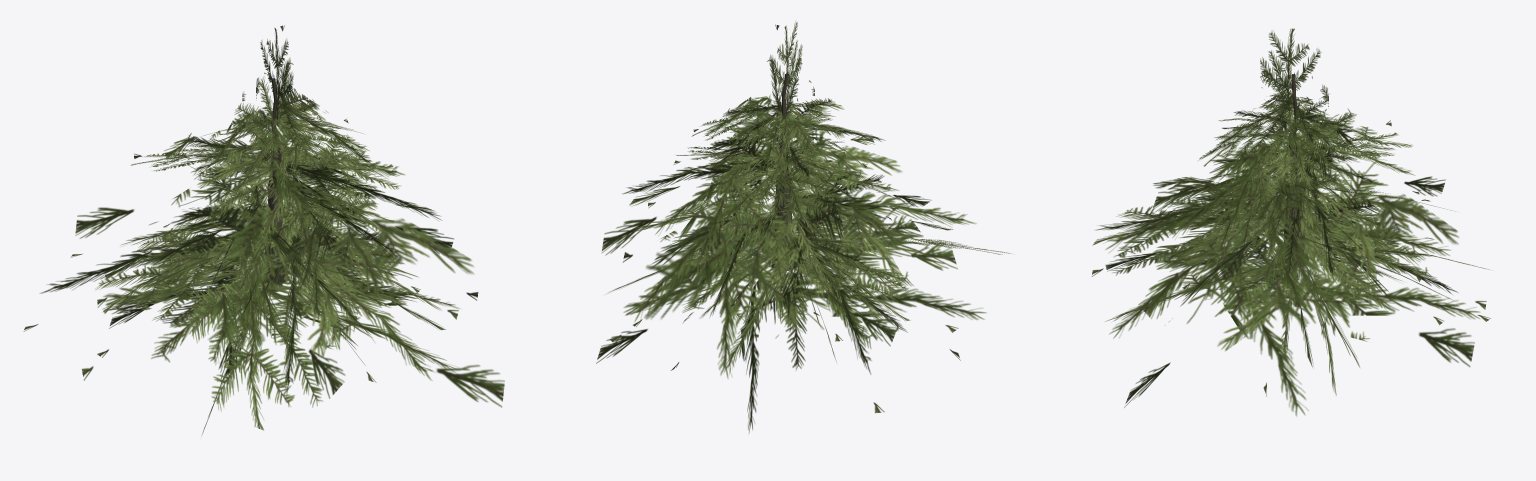
File: prop_sapling_fir_a.glb
3 views of the same model, side by side, from view 1: azimuth 30°, elevation 25°; view 2: azimuth 150°, elevation 25°; view 3: azimuth 270°, elevation 25° (orthographic). The views are drawn at different scales.
Visible parts, largest first — view 1: conifer_fir_121; view 2: conifer_fir_121; view 3: conifer_fir_121.
Part boxes in pixels (bbox=[...]): conifer_fir_121: bbox=[23, 25, 504, 434]; conifer_fir_121: bbox=[596, 22, 1011, 432]; conifer_fir_121: bbox=[1091, 28, 1490, 416].
Size of the model in its own units: 4.78 by 4.21 by 4.92.
2 materials, 2 textured.
